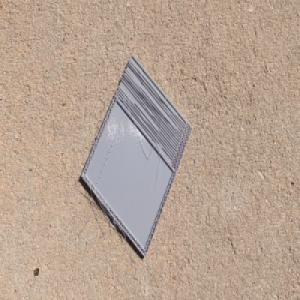PlasticPart: (78, 50, 192, 260)
